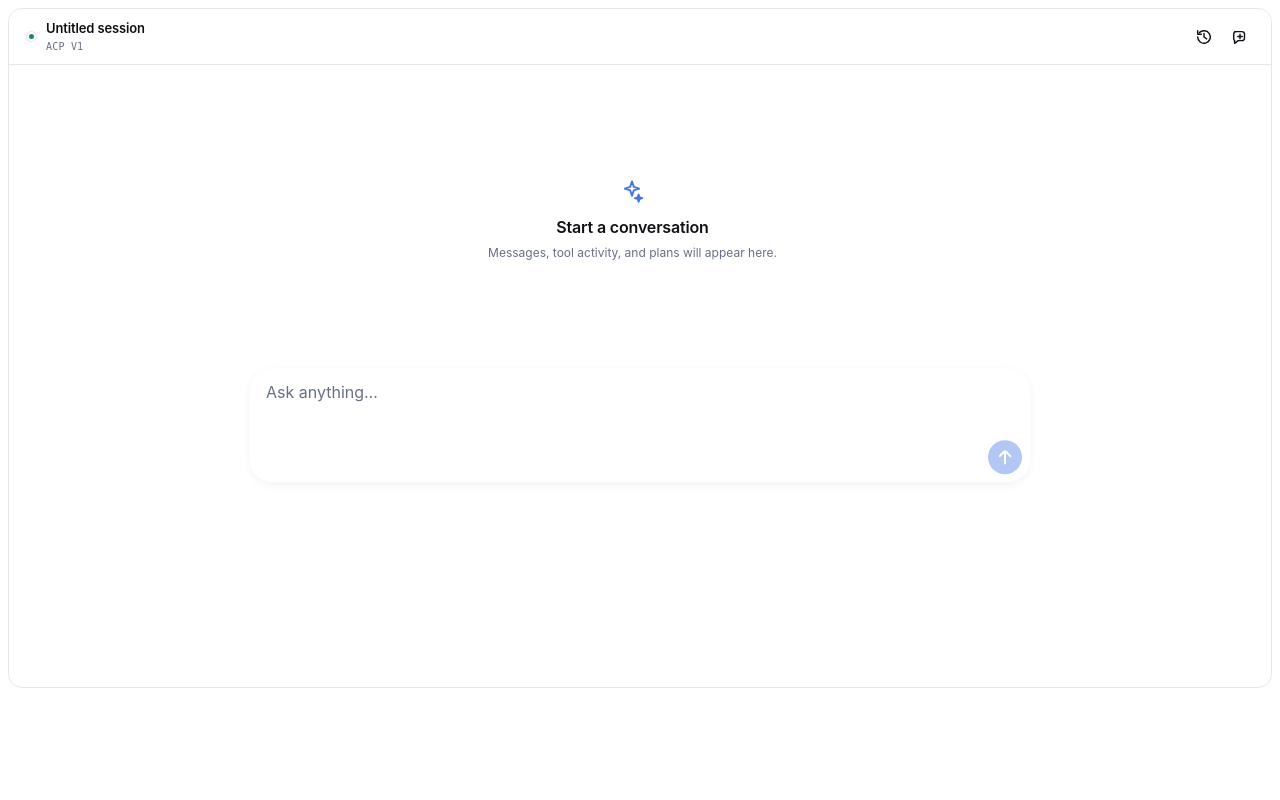
Scenario: Chat composition › formats catalog session ages through the host labels
Step 1. Click the 1st button named "Sessions" → (1204, 36), box left=1187, top=20, right=1221, bottom=54
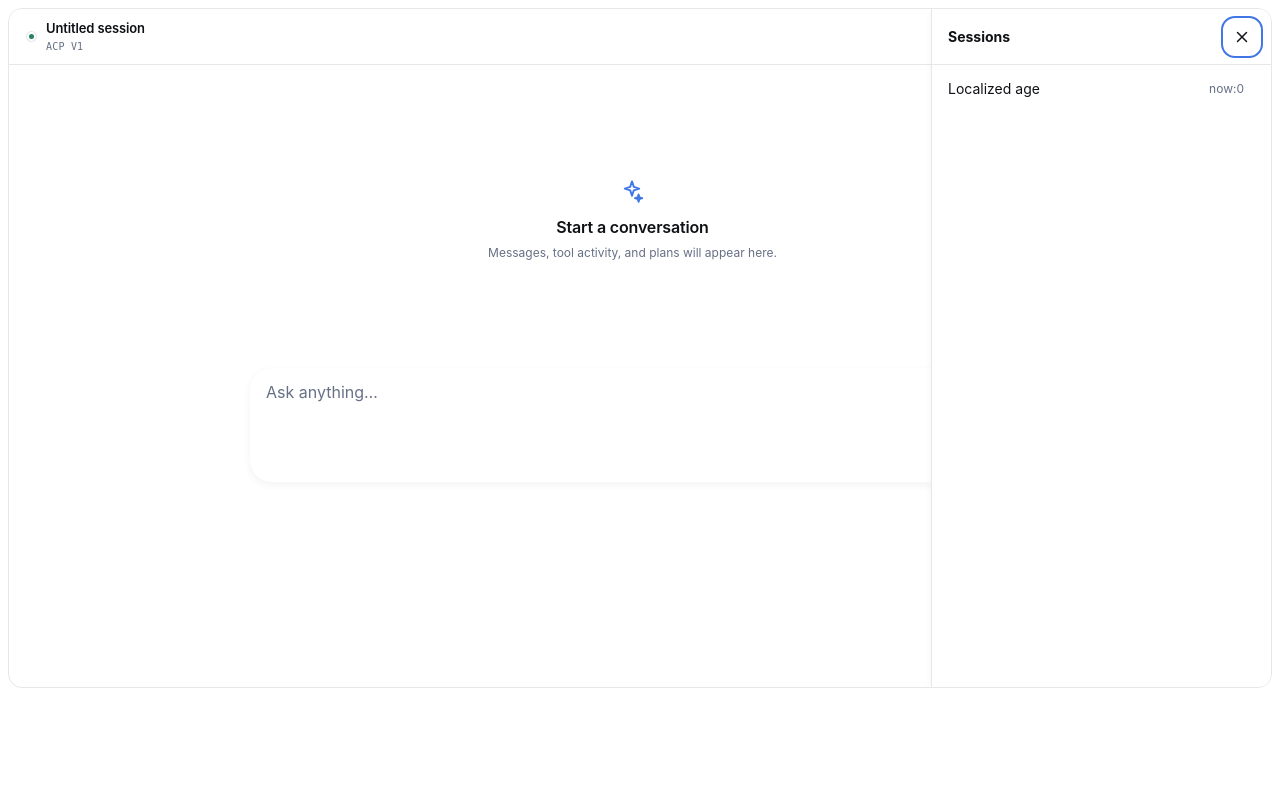
Check: the text "now:0" is shown, box left=1209, top=79, right=1244, bottom=99
